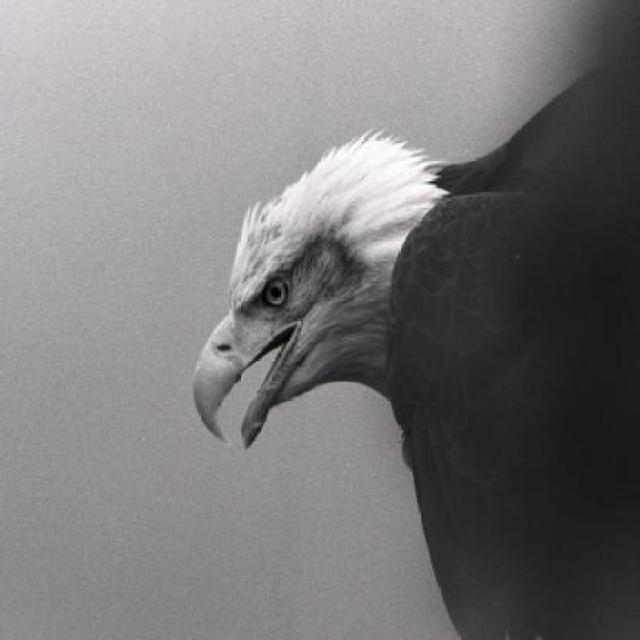Eagle: (189, 133, 640, 640)
